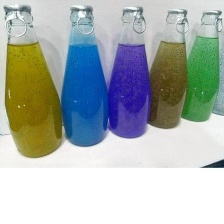bottle: (0, 3, 64, 161), (58, 1, 109, 149), (107, 2, 152, 142), (147, 5, 189, 132), (178, 8, 221, 130)
